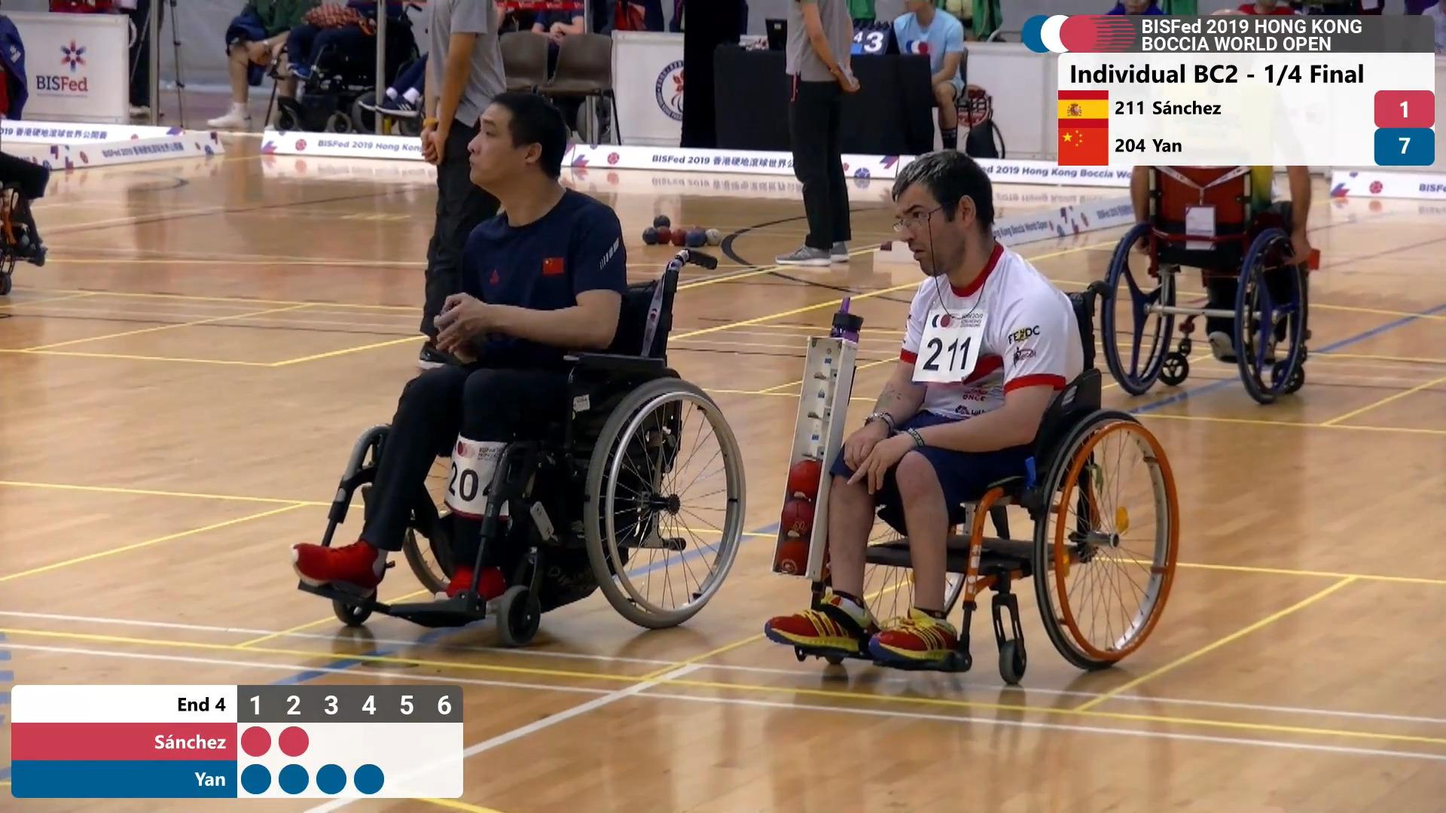blue_ball: (682, 230, 706, 248), (641, 227, 660, 246), (652, 214, 672, 230)
red_ball: (670, 228, 688, 248), (655, 225, 672, 246)
white_ball: (704, 228, 723, 247)
